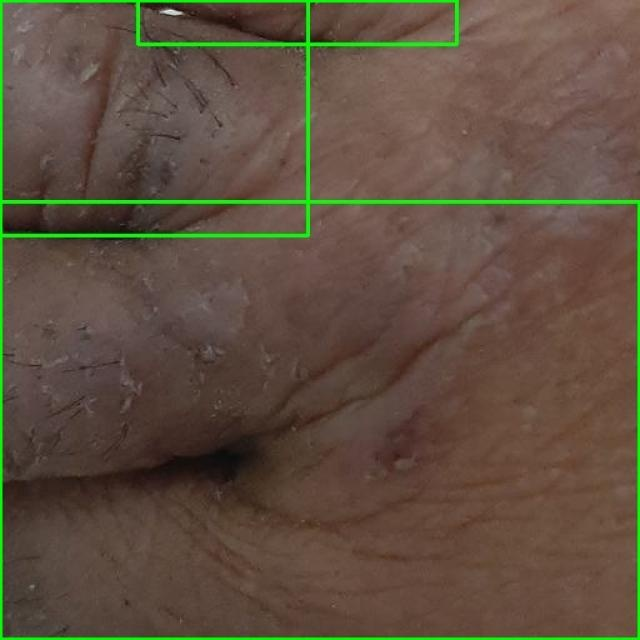Eczema: (0, 201, 639, 639), (0, 0, 308, 235), (138, 0, 456, 44)
